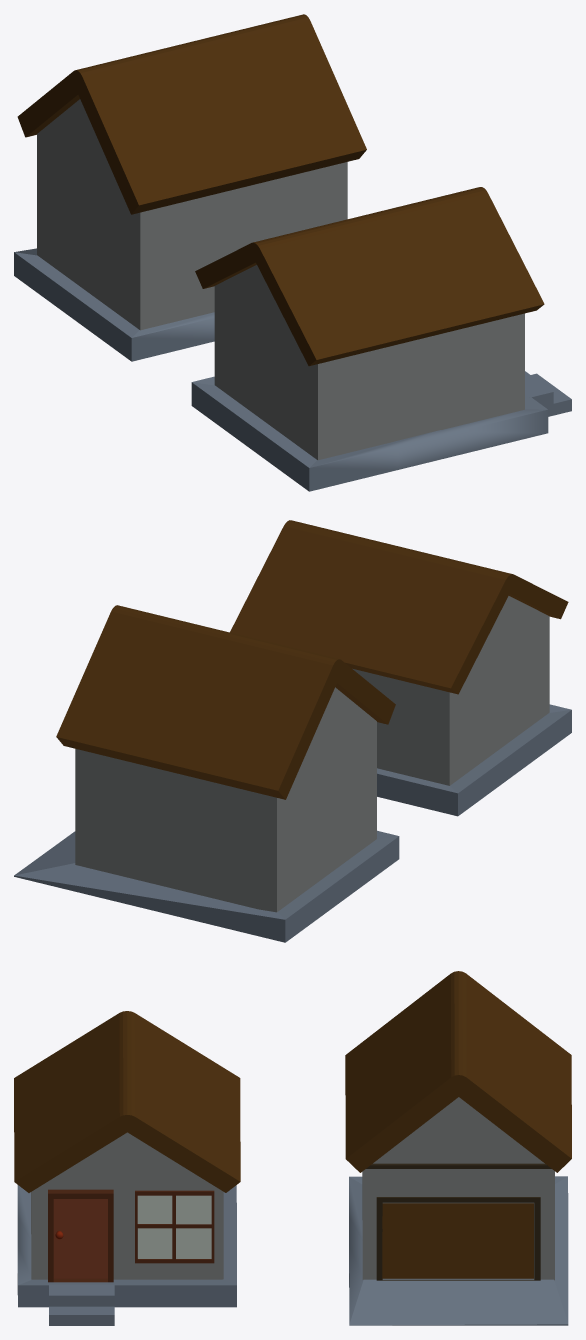
File: SOUTHPARK3.fbx
The picture shows the model from 3 angles, top to bottom: view 1: azimuth 30°, elevation 25°; view 2: azimuth 150°, elevation 25°; view 3: azimuth 270°, elevation 25°; orthographic projection. The views are drawn at different scales.
Parts seen in each view (by area): view 1: Roof.005, Roof.004, Main House.004, Main House.005, Base.004, Base.005, Stairs.002; view 2: Main House.005, Roof.005, Roof.004, Main House.004, Base.005, Base.004; view 3: Roof.005, Roof.004, Main House.005, Base.005, Cube.005, Main House.004, Base.004, Door In.002, Glass.006, Stairs.002, Door Outer.005, Door Outer.004 (+2 smaller).
Boxes of the visible parts, x1,y1,x2,y2 form: Roof.005: (17,14,366,214); Roof.004: (195,187,544,366); Main House.004: (214,265,524,460); Main House.005: (37,99,347,330); Base.004: (191,376,548,491); Base.005: (14,248,214,361); Stairs.002: (525,371,571,416); Main House.005: (75,687,376,912); Roof.005: (56,605,395,799); Roof.004: (230,520,568,694); Main House.004: (352,596,549,785); Base.005: (14,830,399,942); Base.004: (377,704,571,816); Roof.005: (345,971,571,1172); Roof.004: (14,1011,240,1192); Main House.005: (362,1097,554,1280); Base.005: (349,1176,568,1325); Cube.005: (382,1203,533,1278); Main House.004: (31,1132,223,1279); Base.004: (17,1185,236,1307); Door In.002: (53,1199,107,1278); Glass.006: (137,1195,211,1258); Stairs.002: (49,1284,114,1325); Door Outer.005: (376,1197,540,1280); Door Outer.004: (48,1189,113,1282).
Bounding box in the file's own units: 810 × 681 × 1498.
